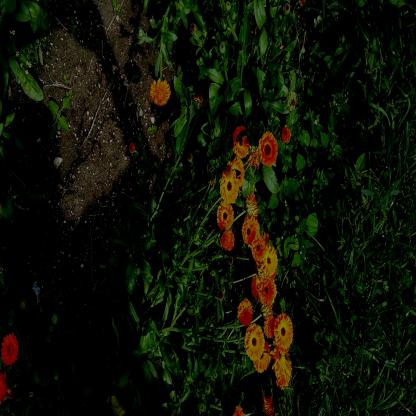marigold: (246, 325, 263, 360), (260, 134, 277, 166), (260, 246, 278, 276), (221, 172, 238, 202), (276, 314, 291, 348), (243, 216, 259, 247), (217, 202, 233, 230), (259, 278, 276, 304), (233, 129, 250, 155), (152, 80, 170, 103), (252, 235, 267, 261), (3, 335, 16, 364), (237, 301, 252, 325)
